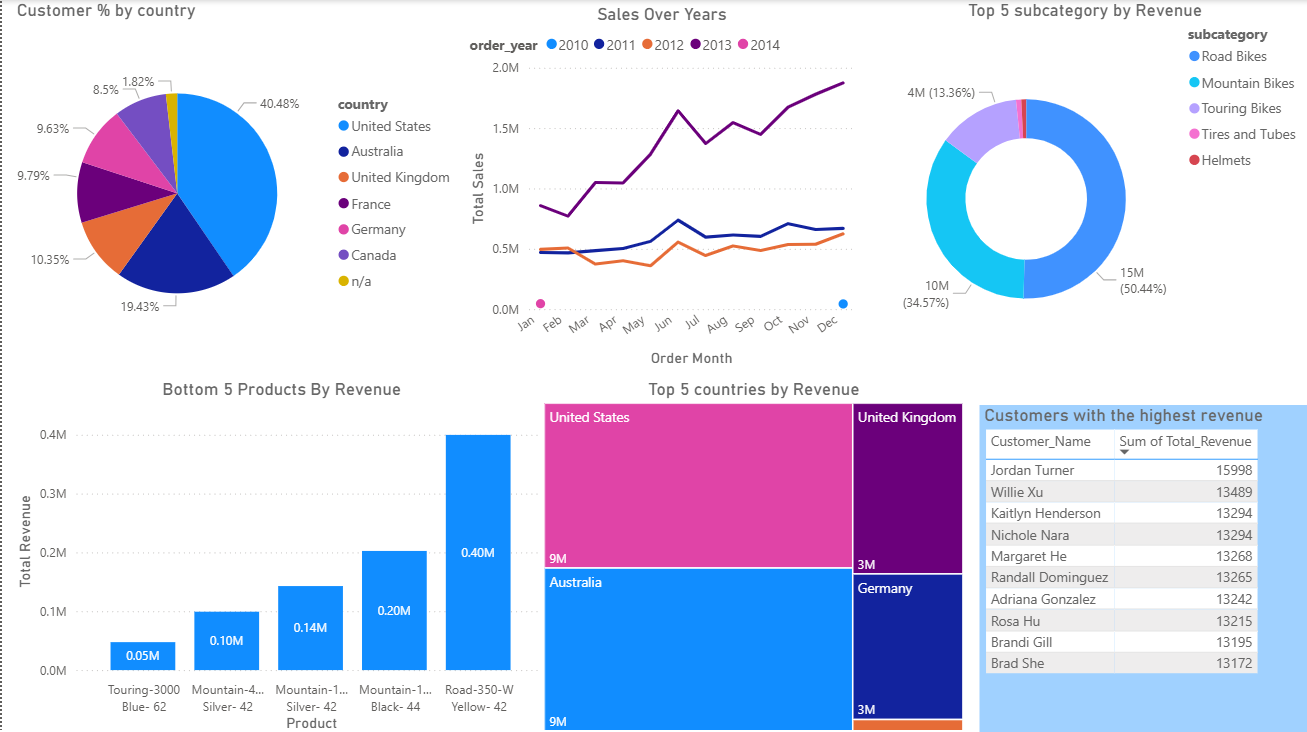

The dashboard page shown, as its layout file describes it:
{"tool":"powerbi","page":{"name":"Page 1","canvas":[1280,720],"ordinal":0},"visuals":[{"type":"pieChart","title":"Customer % by country","fields":{"Category":["Total Customers by country.country"],"Y":["Total Customers by country.Total_Number_of_Customers"]},"box":[9.8,0,442.7,359.5],"z":0},{"type":"columnChart","title":"Bottom 5 Products By Revenue","fields":{"Category":["Bottom 5 Products By Revenue.product_name"],"Y":["Bottom 5 Products By Revenue.Total_Revenue"]},"box":[10,370,528,350],"z":1000},{"type":"lineChart","title":"Sales Over Years","fields":{"Category":["Sales Over Years.order_month_name"],"Series":["Sales Over Years.order_year"],"Y":["Sales Over Years.total_sales"]},"box":[452.4,3.7,386.4,359.5],"z":2000},{"type":"treemap","title":"Top 5 countries by Revenue","fields":{"Group":["Top 5 countries by Revenue.country"],"Values":["Top 5 countries by Revenue.Total_Revenue"]},"box":[525.8,370.5,419.4,349.7],"z":3000},{"type":"tableEx","title":"Customers with the highest revenue","fields":{"Values":["top 10 customers with the highest revenue.Customer_Name","top 10 customers with the highest revenue.Total_Revenue"]},"box":[956.3,396.2,324.1,324.1],"z":3001},{"type":"donutChart","title":"Top 5 subcategory by Revenue ","fields":{"Category":["total revenue generated for each sub-category.subcategory"],"Y":["total revenue generated for each sub-category.Total_Revenue"]},"box":[838.9,0,441.4,370.5],"z":3002}]}

Visuals, with their boxes in screenshot pixels (x1, y1, x2, y2), scaled from the page's 1280x720 canvas onto the 1307x732 screenshot:
"Customer % by country" pieChart: (left=10, top=0, right=462, bottom=365)
"Bottom 5 Products By Revenue" columnChart: (left=10, top=376, right=549, bottom=731)
"Sales Over Years" lineChart: (left=462, top=4, right=856, bottom=369)
"Top 5 countries by Revenue" treemap: (left=537, top=377, right=965, bottom=731)
"Customers with the highest revenue" tableEx: (left=976, top=403, right=1306, bottom=731)
"Top 5 subcategory by Revenue " donutChart: (left=857, top=0, right=1306, bottom=377)
